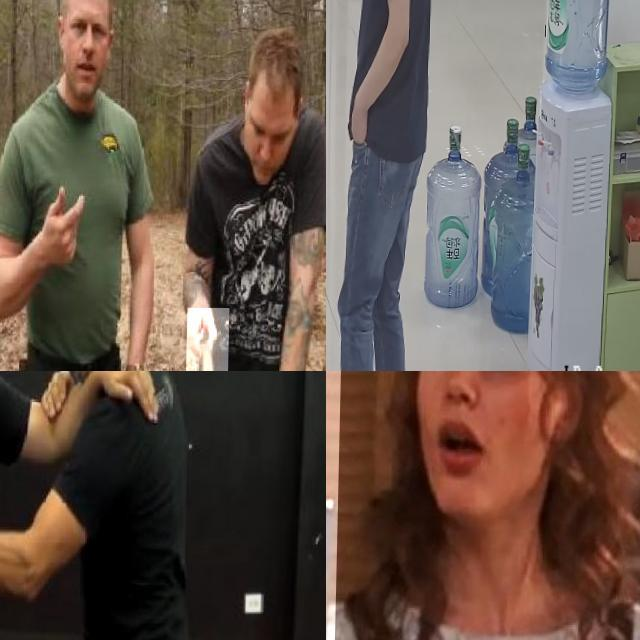-: (326, 371, 369, 640), (186, 307, 231, 371)
gun-knife-thesis - v11 Yolov5 augmented: (326, 0, 357, 37)
